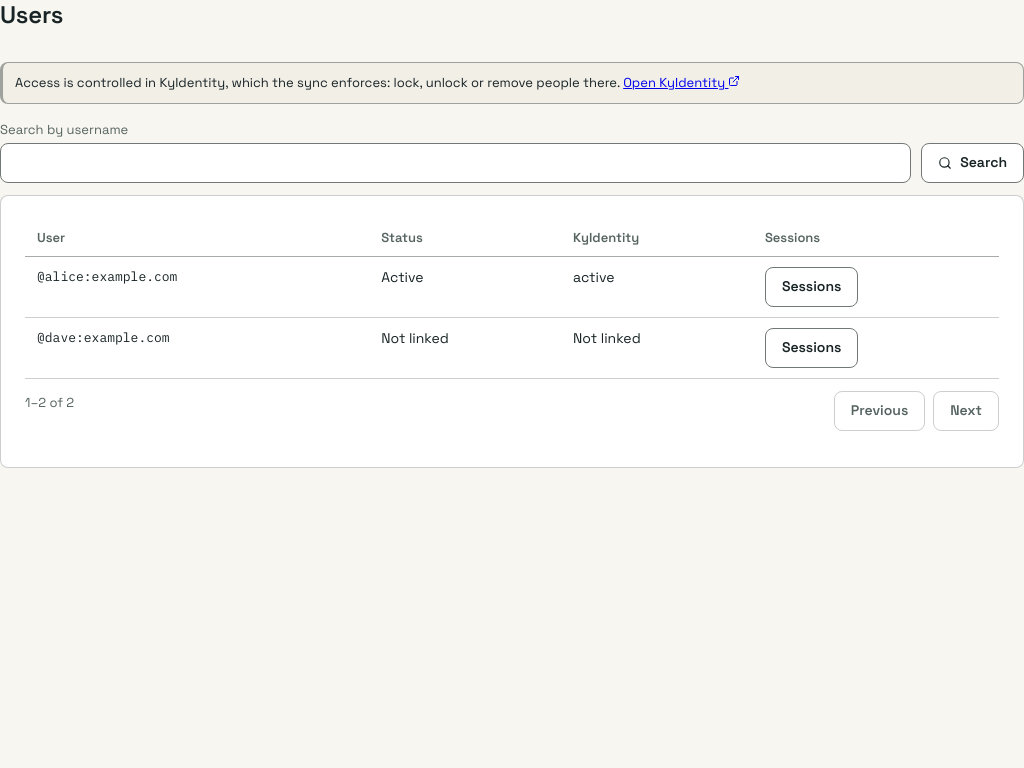
Users › keeps the End failure when the reload after it fails too
Click the button with aria-label "Sessions for alice" at x=812, y=286, box [765,266,858,306]
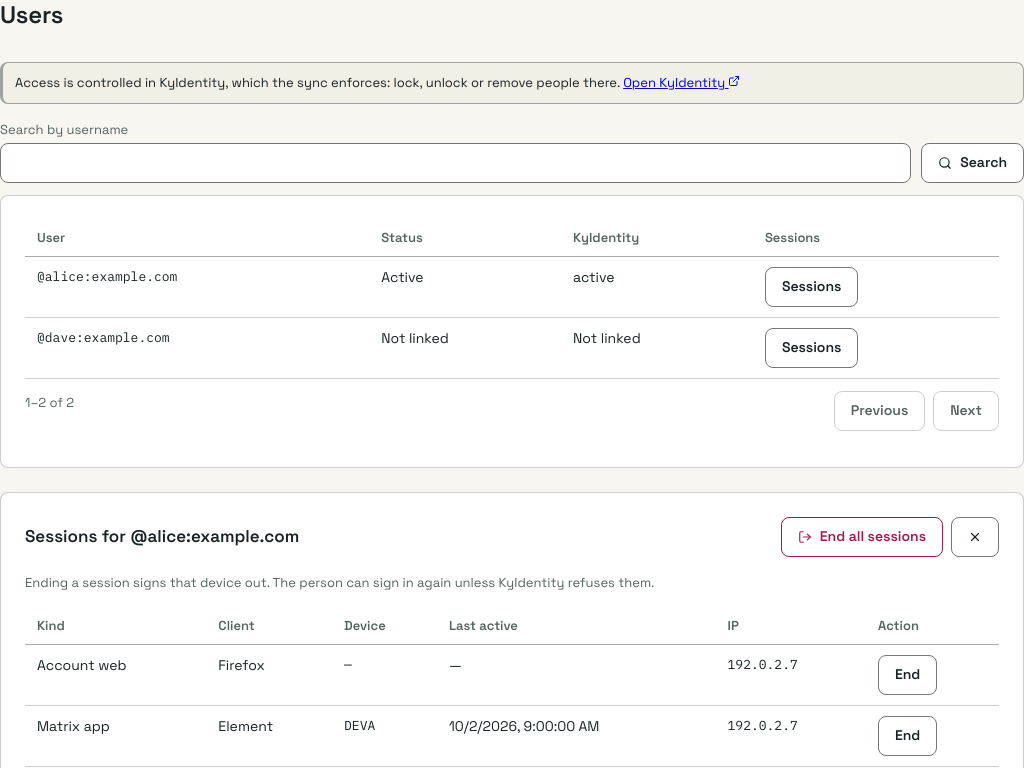
Check: the text "DEVA" is shown, box [332,705,437,766]
Click the button with aria-label "End Matrix app session DEVA" at x=908, y=736, box [878,716,937,756]
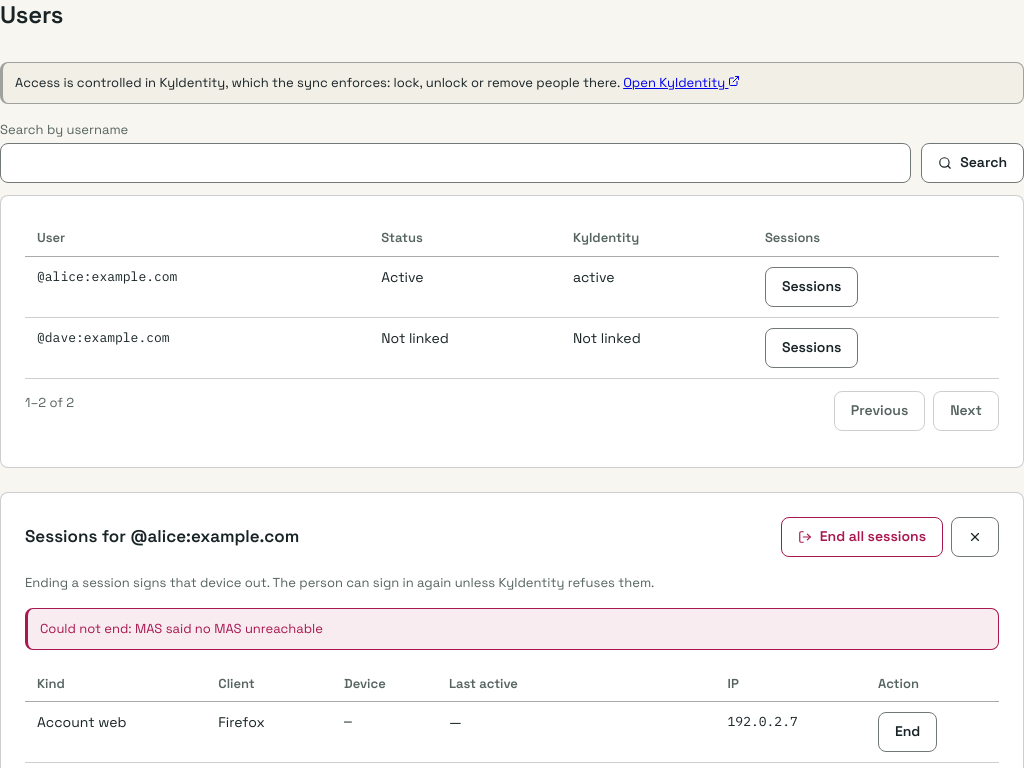
Check: the message shows "MAS unreachable", box [40,620,323,637]
Check: the message shows "Could not end: MAS said no", box [40,620,323,637]
